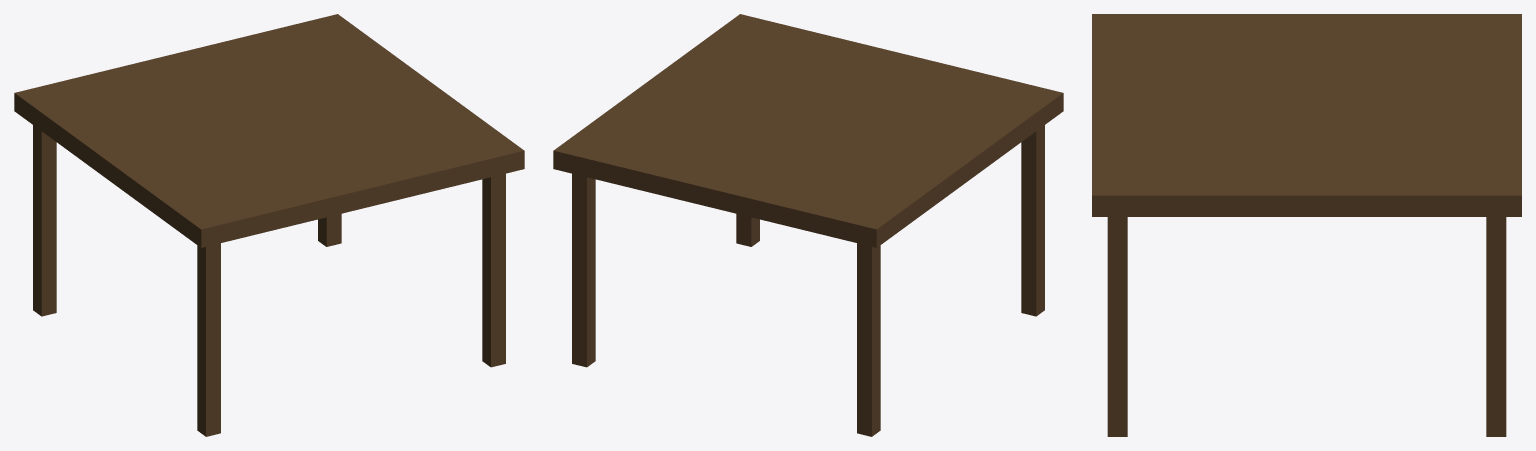
The model's file is table.fbx.
3 views of the same model, side by side, from view 1: azimuth 30°, elevation 25°; view 2: azimuth 150°, elevation 25°; view 3: azimuth 270°, elevation 25° (orthographic). The views are drawn at different scales.
Visible parts, largest first — view 1: Cube; view 2: Cube; view 3: Cube.
Boxes of the visible parts, x1,y1,x2,y2 form: Cube: [14, 14, 524, 436]; Cube: [553, 14, 1063, 436]; Cube: [1092, 14, 1521, 436].
Size of the model in its own units: 110 by 69.99 by 110.
